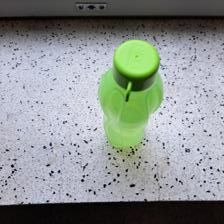bottle: (94, 39, 168, 152)
